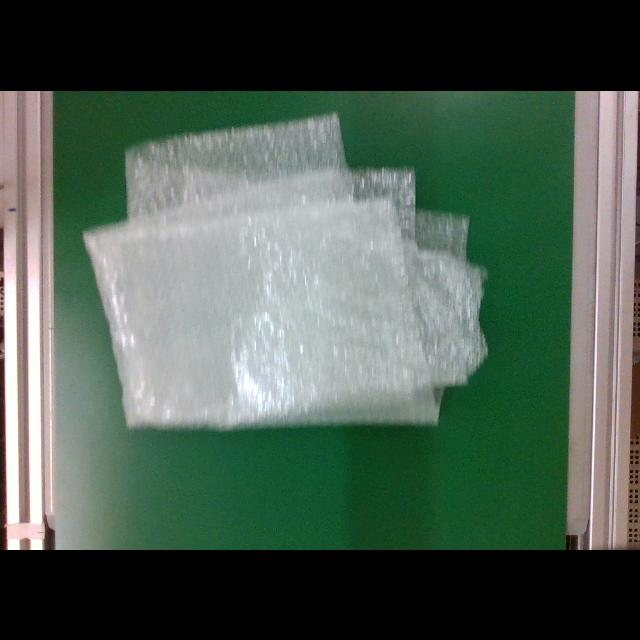scrap_plastic: (84, 112, 490, 430)
